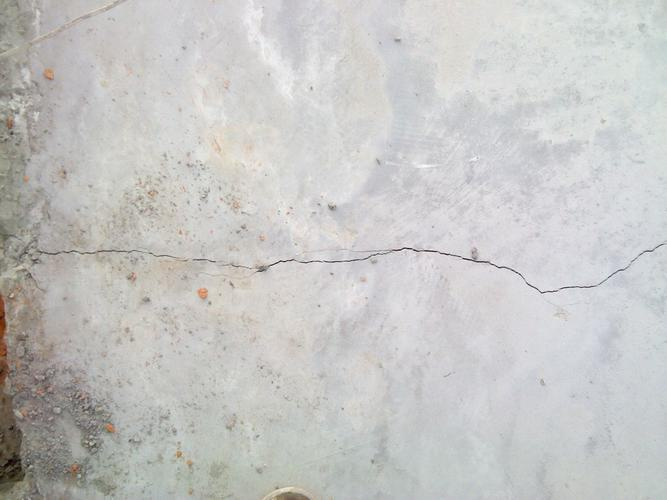Crack: (1, 232, 667, 294)
Spalling: (1, 1, 116, 500)
